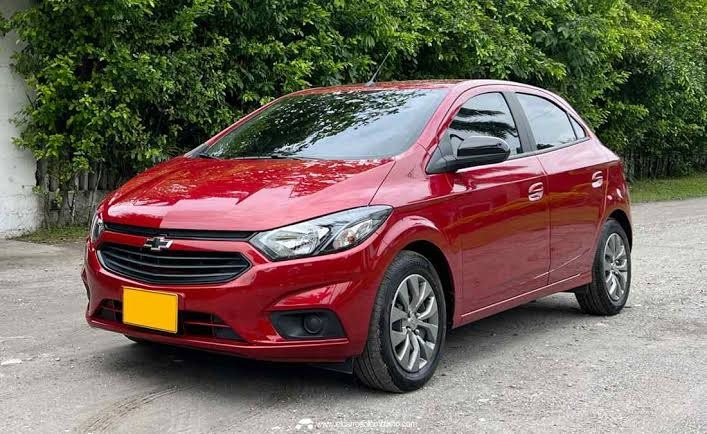car: (71, 67, 637, 385), (83, 68, 633, 388)
